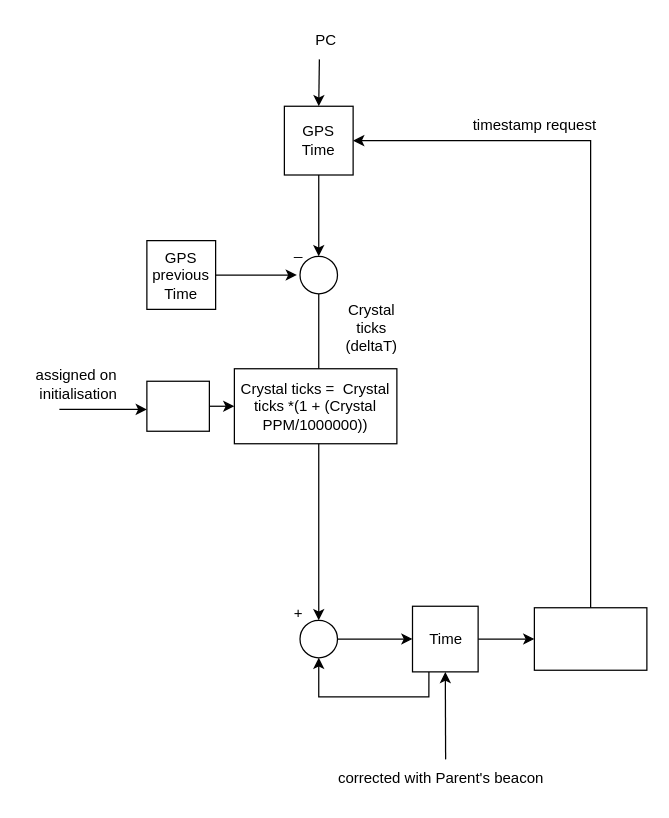
Some shapes in this 669 by 818 pixel diagram are drawn without their labels. Here are the shapes that lost their labels. From the top down, the box of each, then its label:
(146, 380, 209, 431): Crystal PPM
(533, 606, 647, 670): NODE (python-mesh)
